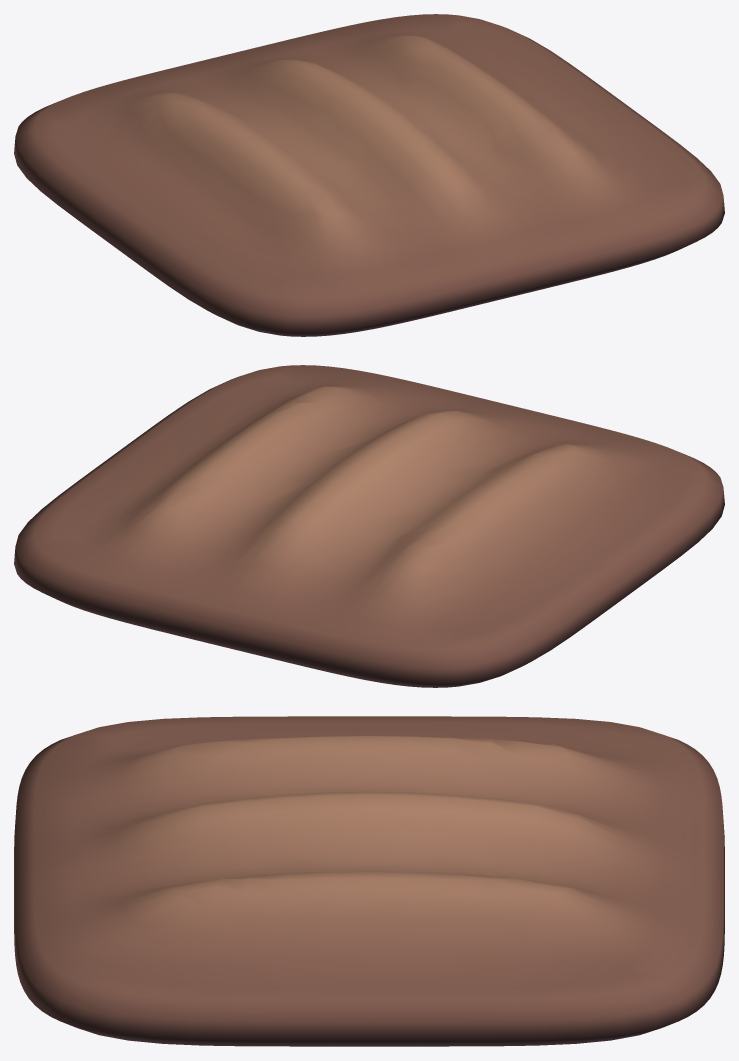
File: toprak_grid.fbx
3 renders of one model, top to bottom at view 1: azimuth 30°, elevation 25°; view 2: azimuth 150°, elevation 25°; view 3: azimuth 270°, elevation 25°, orthographic. The views are drawn at different scales.
Parts seen in each view (by area): view 1: Soil_Plot; view 2: Soil_Plot; view 3: Soil_Plot.
Part boxes in pixels (x1,y1,x2,y2): Soil_Plot: [14, 14, 724, 336]; Soil_Plot: [14, 365, 724, 687]; Soil_Plot: [14, 716, 724, 1046].
Bounding box in the file's own units: 1 × 0.17 × 1.
Materials: 1 (1 with a texture image).
